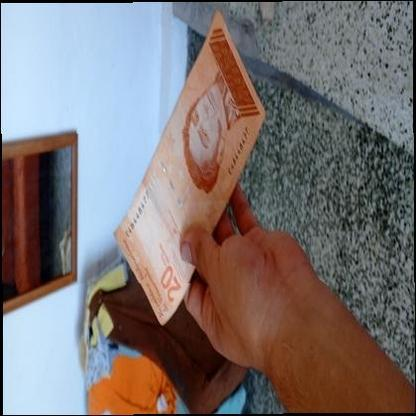twenty-front-vef: (110, 8, 266, 327)
